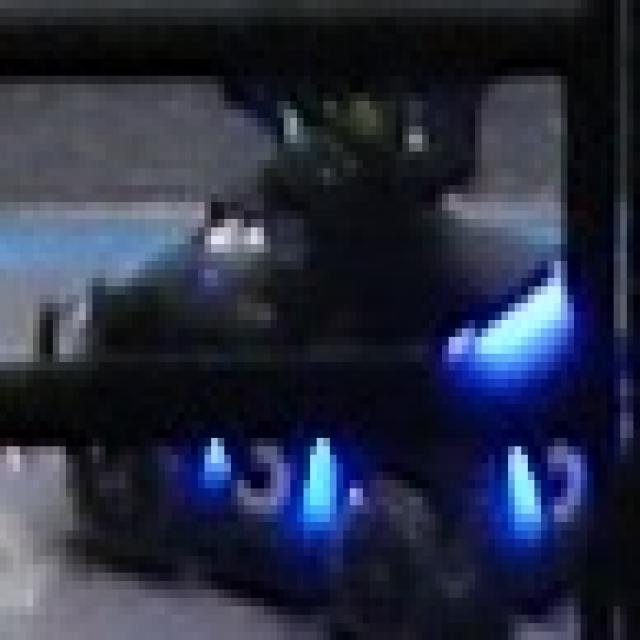B3: (198, 412, 330, 530), (501, 429, 594, 539)
